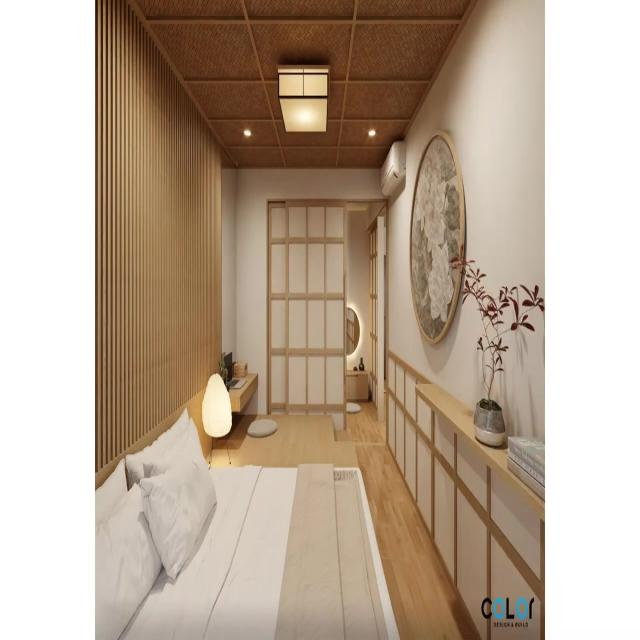door: (269, 200, 344, 408)
obstacle: (94, 403, 400, 638)
